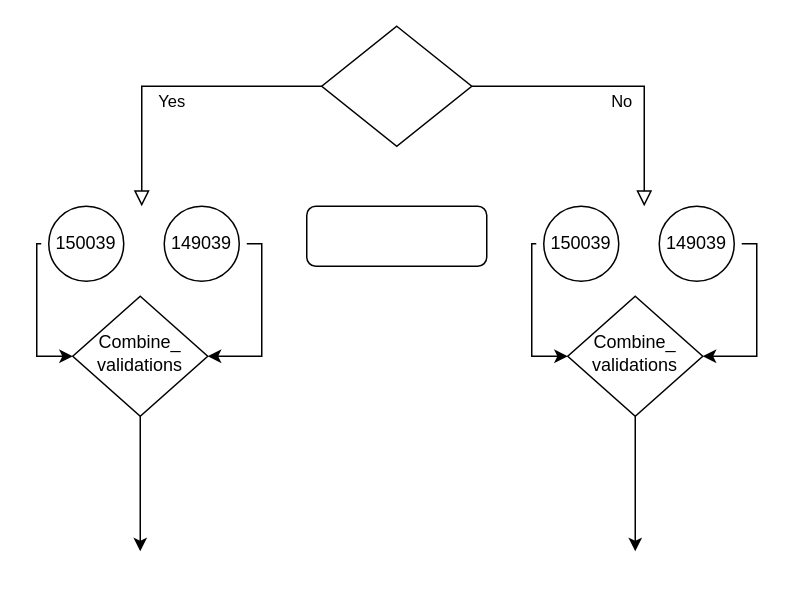
This 795x590 diagram has some shape labels left out. Here are the shapes that lost their labels. From the top down, the centre of each, then its label:
the point at 396,85: Rescaling
the point at 396,235: Row_Path
